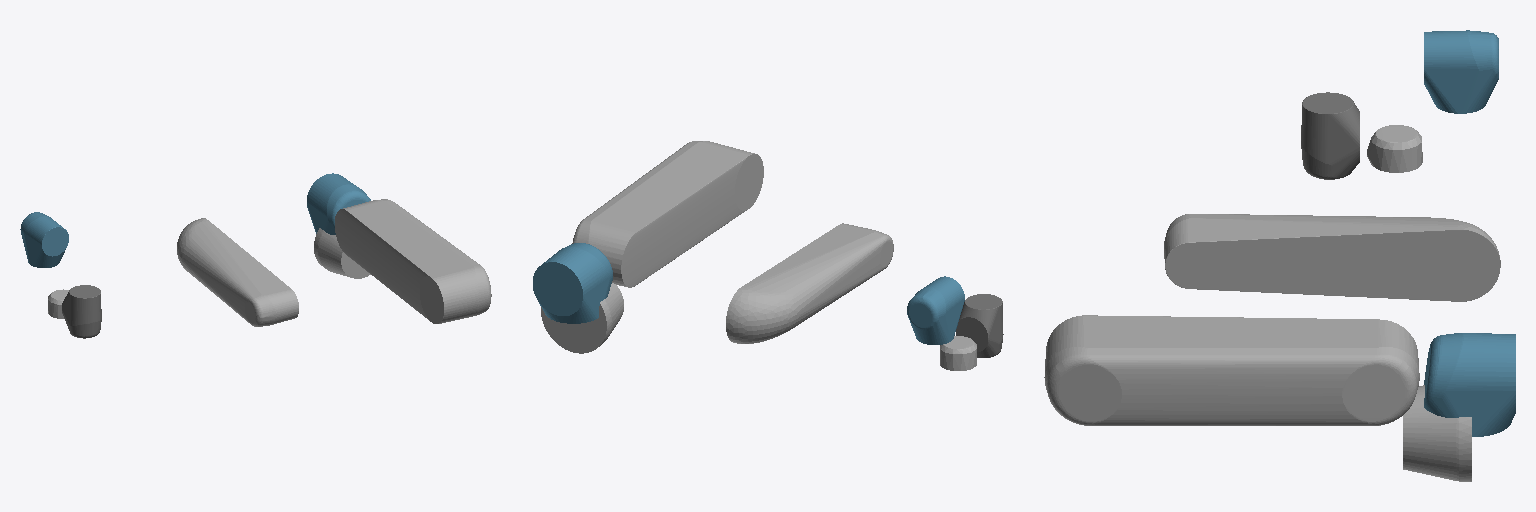
robot.urdf — ur5:
<?xml version="1.0" ?>
<robot name="ur5" xmlns:xacro="http://ros.org/wiki/xacro">

  <!--################################################
  ########            world base               #######
  ####################################################-->

  <link name="base_fixture_link"/>

  <!--################################################
  ########              arm 0                  #######
  ####################################################-->

  <link name="base_link">
    <visual>
      <geometry>
        <mesh filename="meshes/visual/base.obj"/>
      </geometry>
      <material name="LightGrey">
        <color rgba="0.7 0.7 0.7 1.0"/>
      </material>
    </visual>
    <collision>
      <geometry>
        <mesh filename="meshes/visual/base.obj"/>
      </geometry>
    </collision>
    <inertial>
      <mass value="4.0"/>
      <origin rpy="0 0 0" xyz="0.0 0.0 0.0"/>
      <inertia ixx="0.00443333156" ixy="0.0" ixz="0.0" iyy="0.00443333156" iyz="0.0" izz="0.0072"/>
    </inertial>
  </link>

  <joint name="shoulder_pan_joint" type="revolute">
    <parent link="base_link"/>
    <child link="shoulder_link"/>
    <origin rpy="0.0 0.0 0.0" xyz="0.0 0.0 0.089159"/>
    <axis xyz="0 0 1"/>
    <limit effort="150.0" lower="-3.14159265359" upper="3.14159265359" velocity="3.15"/>
    <dynamics damping="0.1" friction="0.0"/>
  </joint>
  <link name="shoulder_link">
    <visual>
      <geometry>
        <mesh filename="meshes/visual/shoulder.obj"/>
      </geometry>
      <material name="UR-Blue">
        <color rgba="0.376 0.576 0.674 1.0"/>
      </material>
    </visual>
    <collision>
      <geometry>
        <mesh filename="meshes/visual/shoulder.obj"/>
      </geometry>
    </collision>
    <inertial>
      <mass value="3.7"/>
      <origin rpy="0 0 0" xyz="0.0 0.0 0.0"/>
      <inertia ixx="0.010267495893" ixy="0.0" ixz="0.0" iyy="0.010267495893" iyz="0.0" izz="0.00666"/>
    </inertial>
  </link>
  <joint name="shoulder_lift_joint" type="revolute">
    <parent link="shoulder_link"/>
    <child link="upper_arm_link"/>
    <origin rpy="0.0 1.57079632679 0.0" xyz="0.0 0.13585 0.0"/>
    <axis xyz="0 1 0"/>
    <limit effort="150.0" lower="-3.14159265359" upper="3.14159265359" velocity="3.15"/>
    <dynamics damping="0.1" friction="0.0"/>
  </joint>
  <link name="upper_arm_link">
    <visual>
      <geometry>
        <mesh filename="meshes/visual/upperarm.obj"/>
      </geometry>
      <material name="LightGrey">
        <color rgba="0.7 0.7 0.7 1.0"/>
      </material>
    </visual>
    <collision>
      <geometry>
        <mesh filename="meshes/visual/upperarm.obj"/>
      </geometry>
    </collision>
    <inertial>
      <mass value="8.393"/>
      <origin rpy="0 0 0" xyz="0.0 0.0 0.28"/>
      <inertia ixx="0.22689067591" ixy="0.0" ixz="0.0" iyy="0.22689067591" iyz="0.0" izz="0.0151074"/>
    </inertial>
  </link>
  <joint name="elbow_joint" type="revolute">
    <parent link="upper_arm_link"/>
    <child link="forearm_link"/>
    <origin rpy="0.0 0.0 0.0" xyz="0.0 -0.1197 0.425"/>
    <axis xyz="0 1 0"/>
    <limit effort="150.0" lower="-3.14159265359" upper="3.14159265359" velocity="3.15"/>
    <dynamics damping="0.1" friction="0.0"/>
  </joint>
  <link name="forearm_link">
    <visual>
      <geometry>
        <mesh filename="meshes/visual/forearm.obj"/>
      </geometry>
      <material name="LightGrey">
        <color rgba="0.7 0.7 0.7 1.0"/>
      </material>
    </visual>
    <collision>
      <geometry>
        <mesh filename="meshes/visual/forearm.obj"/>
      </geometry>
    </collision>
    <inertial>
      <mass value="2.275"/>
      <origin rpy="0 0 0" xyz="0.0 0.0 0.25"/>
      <inertia ixx="0.049443313556" ixy="0.0" ixz="0.0" iyy="0.049443313556" iyz="0.0" izz="0.004095"/>
    </inertial>
  </link>
  <joint name="wrist_1_joint" type="revolute">
    <parent link="forearm_link"/>
    <child link="wrist_1_link"/>
    <origin rpy="0.0 1.57079632679 0.0" xyz="0.0 0.0 0.39225"/>
    <axis xyz="0 1 0"/>
    <limit effort="28.0" lower="-3.14159265359" upper="3.14159265359" velocity="3.2"/>
    <dynamics damping="0.1" friction="0.0"/>
  </joint>
  <link name="wrist_1_link">
    <visual>
      <geometry>
        <mesh filename="meshes/visual/wrist1.obj"/>
      </geometry>
      <material name="UR-Blue">
        <color rgba="0.376 0.576 0.674 1.0"/>
      </material>
    </visual>
    <collision>
      <geometry>
        <mesh filename="meshes/visual/wrist1.obj"/>
      </geometry>
    </collision>
    <inertial>
      <mass value="1.219"/>
      <origin rpy="0 0 0" xyz="0.0 0.0 0.0"/>
      <inertia ixx="0.111172755531" ixy="0.0" ixz="0.0" iyy="0.111172755531" iyz="0.0" izz="0.21942"/>
    </inertial>
  </link>
  <joint name="wrist_2_joint" type="revolute">
    <parent link="wrist_1_link"/>
    <child link="wrist_2_link"/>
    <origin rpy="0.0 0.0 0.0" xyz="0.0 0.093 0.0"/>
    <axis xyz="0 0 1"/>
    <limit effort="28.0" lower="-3.14159265359" upper="3.14159265359" velocity="3.2"/>
    <dynamics damping="0.1" friction="0.0"/>
  </joint>
  <link name="wrist_2_link">
    <visual>
      <geometry>
        <mesh filename="meshes/visual/wrist2.obj"/>
      </geometry>
      <material name="DarkGray">
        <color rgba="0.5 0.5 0.5 1.0"/>
      </material>
    </visual>
    <collision>
      <geometry>
        <mesh filename="meshes/visual/wrist2.obj"/>
      </geometry>
    </collision>
    <inertial>
      <mass value="1.219"/>
      <origin rpy="0 0 0" xyz="0.0 0.0 0.0"/>
      <inertia ixx="0.111172755531" ixy="0.0" ixz="0.0" iyy="0.111172755531" iyz="0.0" izz="0.21942"/>
    </inertial>
  </link>
  <joint name="wrist_3_joint" type="revolute">
    <parent link="wrist_2_link"/>
    <child link="wrist_3_link"/>
    <origin rpy="0.0 0.0 0.0" xyz="0.0 0.0 0.09465"/>
    <axis xyz="0 1 0"/>
    <limit effort="28.0" lower="-3.14159265359" upper="3.14159265359" velocity="3.2"/>
    <dynamics damping="0.1" friction="0.0"/>
  </joint>
  <link name="wrist_3_link">
    <visual>
      <geometry>
        <mesh filename="meshes/visual/wrist3.obj"/>
      </geometry>
      <material name="LightGrey">
        <color rgba="0.7 0.7 0.7 1.0"/>
      </material>
    </visual>
    <collision>
      <geometry>
        <mesh filename="meshes/visual/wrist3.obj"/>
      </geometry>
    </collision>
    <inertial>
      <mass value="0.1879"/>
      <origin rpy="0 0 0" xyz="0.0 0.0 0.0"/>
      <inertia ixx="0.0171364731454" ixy="0.0" ixz="0.0" iyy="0.0171364731454" iyz="0.0" izz="0.033822"/>
    </inertial>
  </link>
  <joint name="ee_fixed_joint" type="fixed">
    <parent link="wrist_3_link"/>
    <child link="ee_link"/>
    <origin rpy="0.0 0.0 1.57079632679" xyz="0.0 0.0823 0.0"/>
    <dynamics damping="0.1" friction="0.0"/>
  </joint>
  <link name="ee_link">
    <collision>
      <geometry>
        <box size="0.01 0.01 0.01"/>
      </geometry>
      <origin rpy="0 0 0" xyz="-0.01 0 0"/>
    </collision>
  </link>

  <!--################################################
  ########         shared base joints          #######
  ####################################################-->

  <joint name="base_link" type="fixed">
    <parent link="base_fixture_link"/>
    <child link="base_link"/>
    <origin rpy="0 0 3.1415" xyz="0.50 0.0 0.1"/>
  </joint>

</robot>

--- What the picture shows (computed from the rendered views, not written in the file) ---
The picture shows the robot from 3 angles, left to right: view 1: azimuth 30°, elevation 25°; view 2: azimuth 150°, elevation 25°; view 3: azimuth 270°, elevation 25°; orthographic projection.
Robot: ur5 — 9 links, 8 joints (6 revolute, 2 fixed); root link base_fixture_link; default pose: all joints at 0.
Links seen in each view (by area): view 1: upper_arm_link, forearm_link, shoulder_link, wrist_1_link, wrist_2_link, base_link; view 2: upper_arm_link, forearm_link, shoulder_link, wrist_1_link, base_link, wrist_2_link, wrist_3_link; view 3: upper_arm_link, forearm_link, shoulder_link, wrist_1_link, wrist_2_link, base_link, wrist_3_link.
Boxes of the visible links, x1,y1,x2,y2 form: upper_arm_link: (335,199,491,323); forearm_link: (177,218,298,326); shoulder_link: (307,173,370,234); wrist_1_link: (20,212,68,267); wrist_2_link: (62,285,101,338); base_link: (314,228,370,278); upper_arm_link: (572,141,763,287); forearm_link: (726,223,893,343); shoulder_link: (533,243,612,323); wrist_1_link: (907,276,964,344); base_link: (541,283,623,353); wrist_2_link: (956,294,1003,357); wrist_3_link: (940,336,976,370); upper_arm_link: (1044,315,1419,425); forearm_link: (1164,214,1500,301); shoulder_link: (1424,333,1515,436); wrist_1_link: (1424,30,1498,113); wrist_2_link: (1301,92,1359,179); base_link: (1403,385,1471,481); wrist_3_link: (1367,125,1422,172).
Bounding box of the posed robot: 0.9321 × 0.6843 × 0.3303 m (x, y, z).
Meshes: 7 distinct files referenced, 7 mesh visuals loaded (7 OBJ).